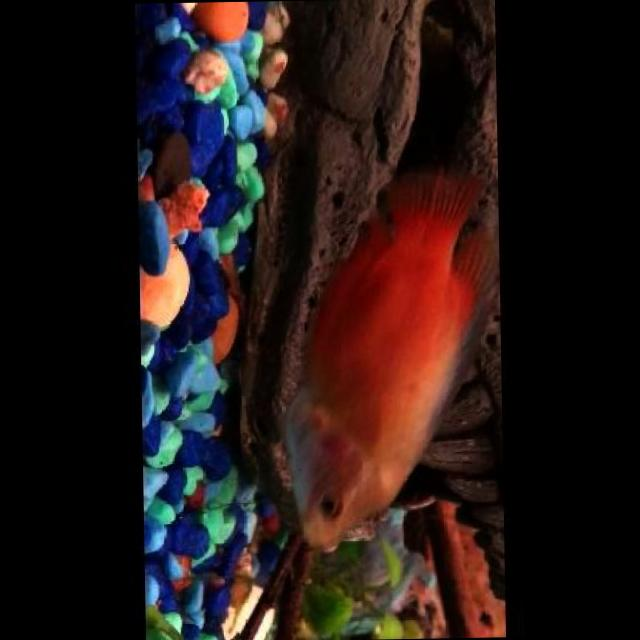Gourami: (272, 160, 504, 555)
